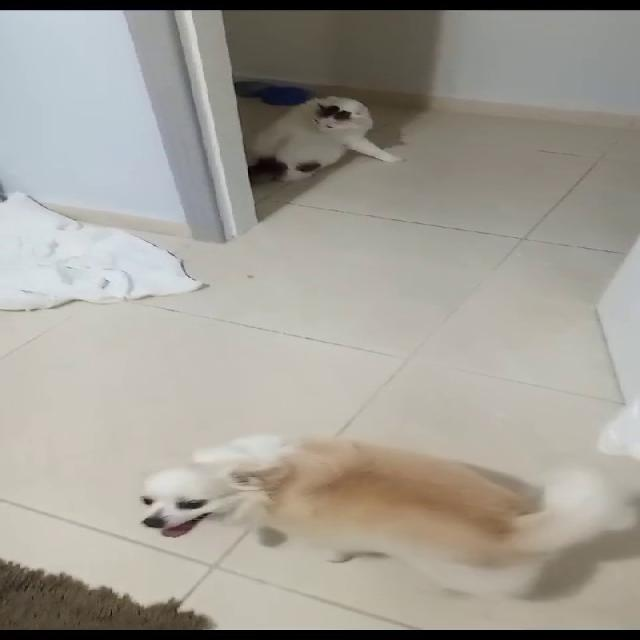Simba: (220, 84, 470, 194)
Theo: (124, 418, 638, 624)
